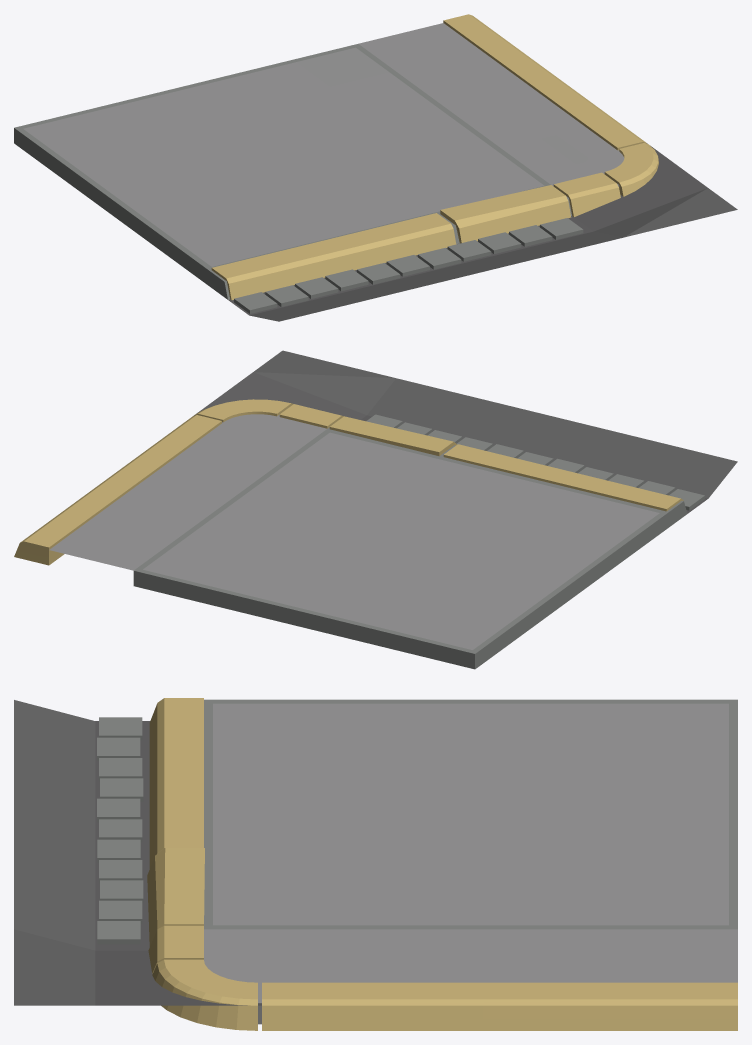
The model's file is SM_sidewalk_01_driveIn.glb.
3 views of the same model, one above another, from view 1: azimuth 30°, elevation 25°; view 2: azimuth 150°, elevation 25°; view 3: azimuth 270°, elevation 25° (orthographic). The views are drawn at different scales.
Parts seen in each view (by area): view 1: SM_sidewalk_01_driveIn; view 2: SM_sidewalk_01_driveIn; view 3: SM_sidewalk_01_driveIn.
Boxes of the visible parts, left/top/right/bottom form: SM_sidewalk_01_driveIn: left=14, top=14, right=737, bottom=321; SM_sidewalk_01_driveIn: left=14, top=350, right=737, bottom=669; SM_sidewalk_01_driveIn: left=14, top=698, right=737, bottom=1030.
Size of the model in its own units: 4.05 by 0.1651 by 4.
Materials: 1 (1 with a texture image).
